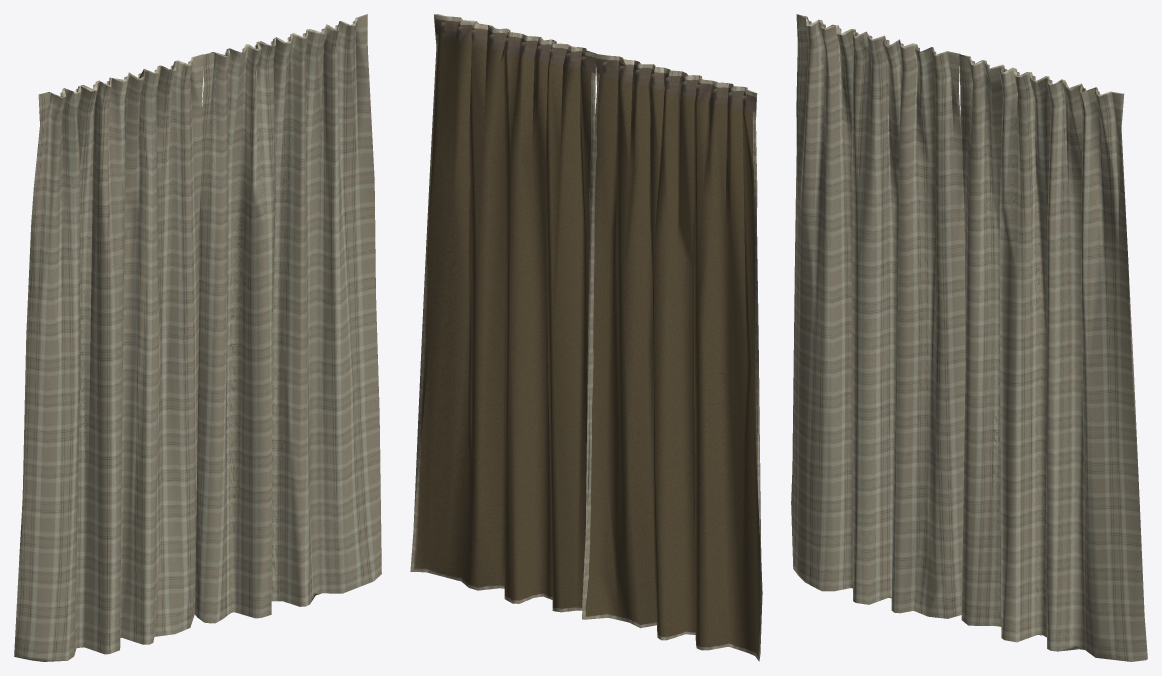
Rendered from haggveckmal_zasony_zacieniajace_1_para_20569029.glb.
The picture shows the model from 3 angles, left to right: view 1: azimuth 30°, elevation 25°; view 2: azimuth 150°, elevation 25°; view 3: azimuth 330°, elevation 25°; orthographic projection.
Parts seen in each view (by area): view 1: haggveckmal_zasony_zacieniajace_1_para_20569029; view 2: haggveckmal_zasony_zacieniajace_1_para_20569029; view 3: haggveckmal_zasony_zacieniajace_1_para_20569029.
Part boxes in pixels (box(x1,y1,x2,y2)): haggveckmal_zasony_zacieniajace_1_para_20569029: box(14, 14, 381, 661); haggveckmal_zasony_zacieniajace_1_para_20569029: box(410, 14, 762, 661); haggveckmal_zasony_zacieniajace_1_para_20569029: box(791, 14, 1147, 661).
Size of the model in its own units: 2.01 by 3.06 by 0.1912.
4 materials, 4 textured.
